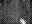person: (21, 18, 26, 23)
